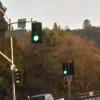Traffic light: (26, 13, 46, 50)
